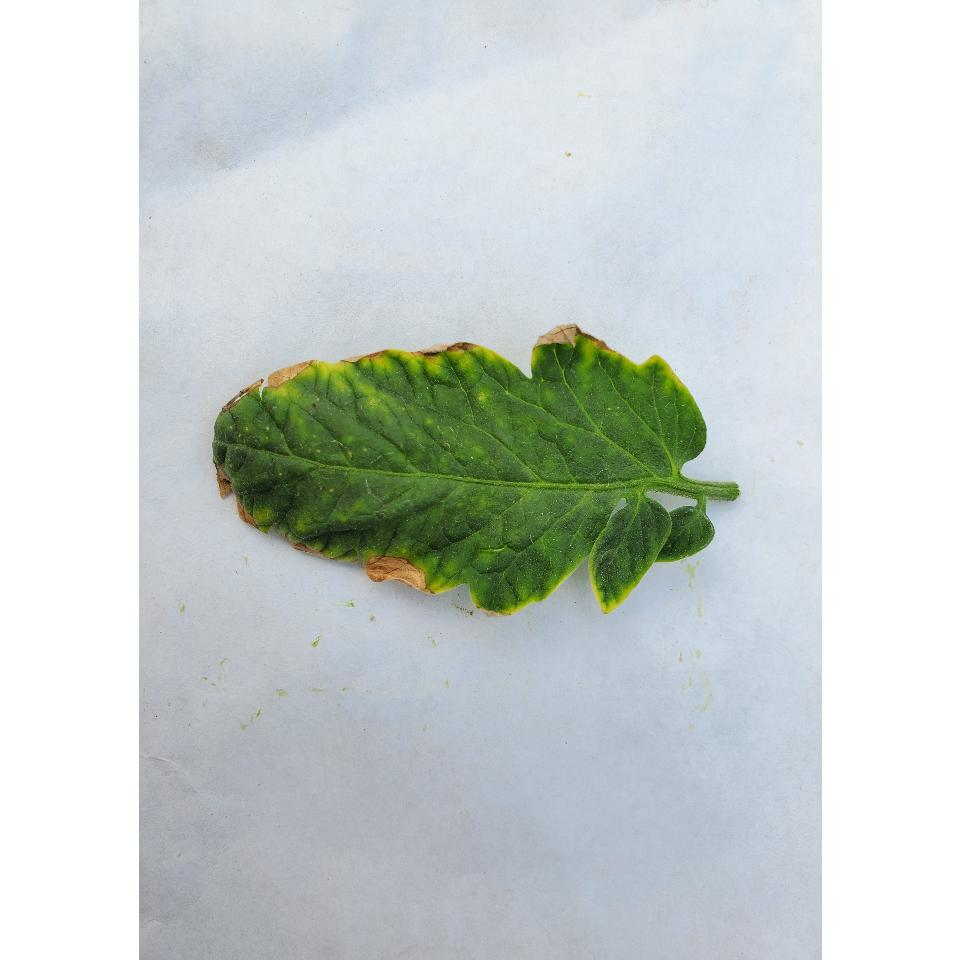tomato_bacterial_blight: (190, 322, 754, 612)
